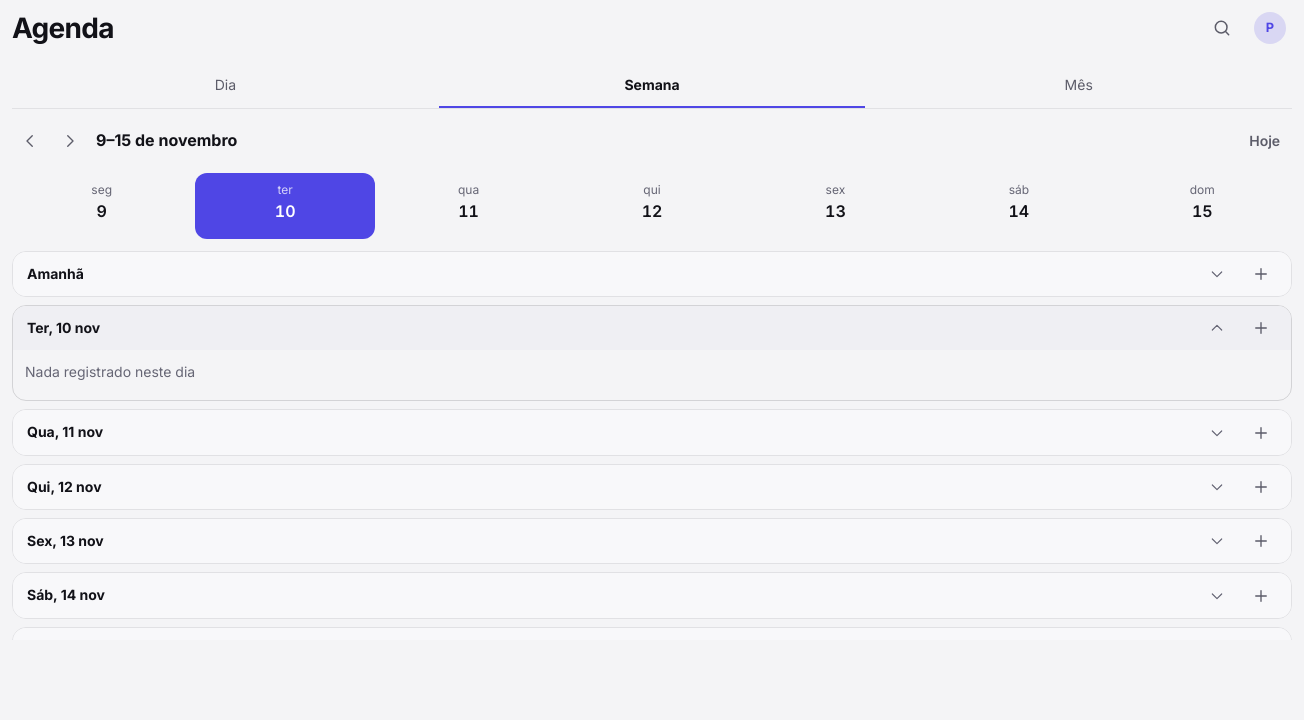
it: retorno da Agenda mantém data, modo e dia expandido, sem reinicializar o contexto
Click the button "P": (1270, 28) [1248,6,1292,50]
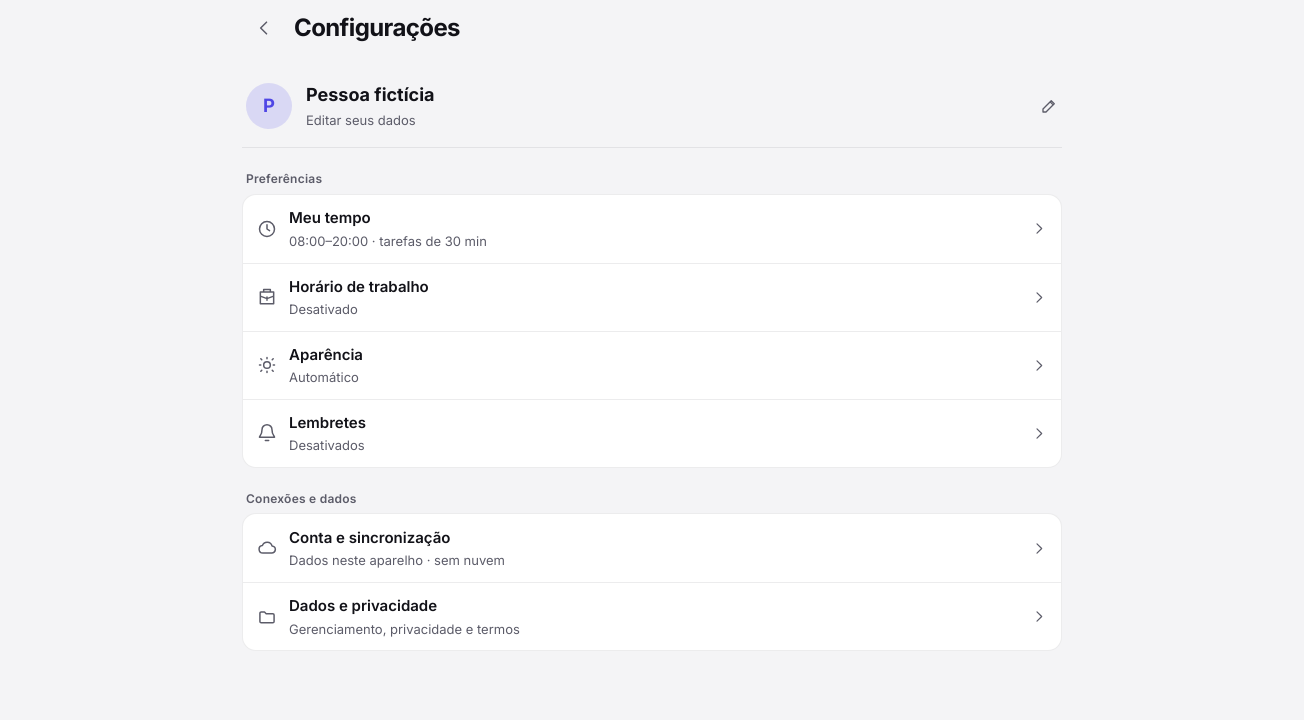
Click the button named "Voltar": (264, 28) [242,6,286,50]
Wait 150 ms
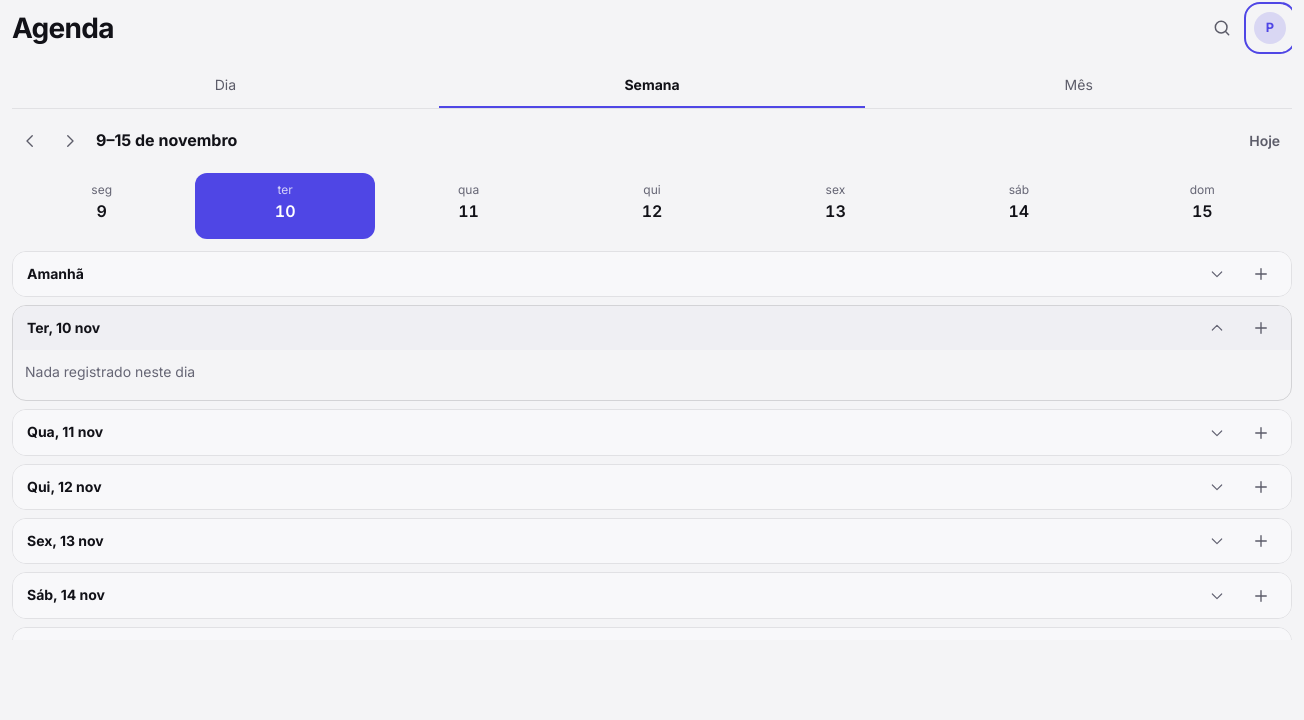
Check: the element with class "topbar" is shown, box [12,0,1292,56]
Check: the element named "Visualização" is shown, box [12,64,1292,109]
